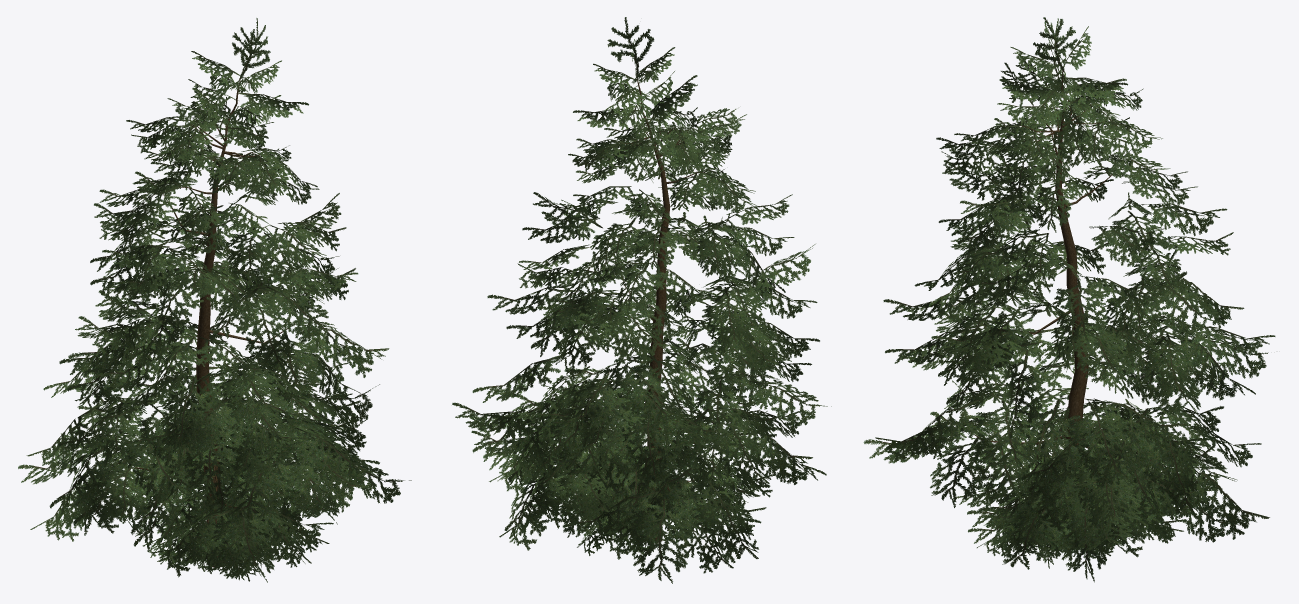
File: koknar_genc.glb
3 views of the same model, side by side, from view 1: azimuth 30°, elevation 25°; view 2: azimuth 150°, elevation 25°; view 3: azimuth 270°, elevation 25° (orthographic). The views are drawn at different scales.
Parts seen in each view (by area): view 1: koknar_genc; view 2: koknar_genc; view 3: koknar_genc.
Boxes of the visible parts, x1,y1,x2,y2 form: koknar_genc: (18, 18, 411, 582); koknar_genc: (452, 17, 831, 583); koknar_genc: (863, 17, 1275, 582).
Size of the model in its own units: 3.2 by 4.5 by 3.14.
2 materials, 2 textured.
